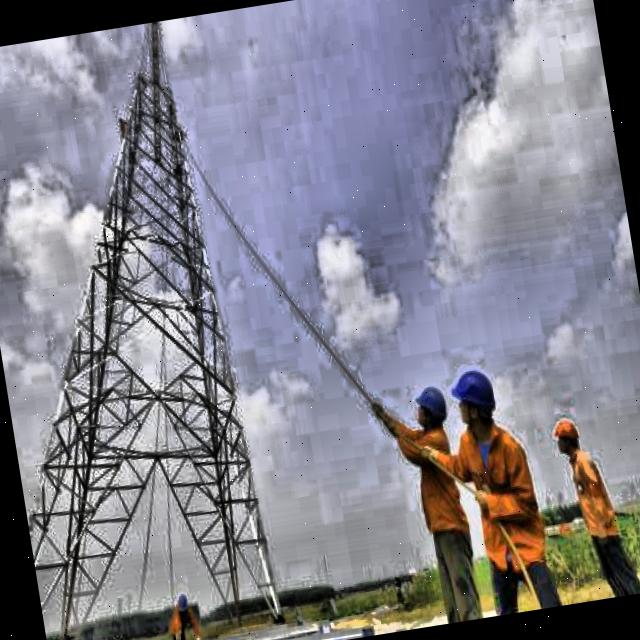helmet: (447, 360, 502, 440), (411, 379, 454, 434), (546, 414, 586, 463)
